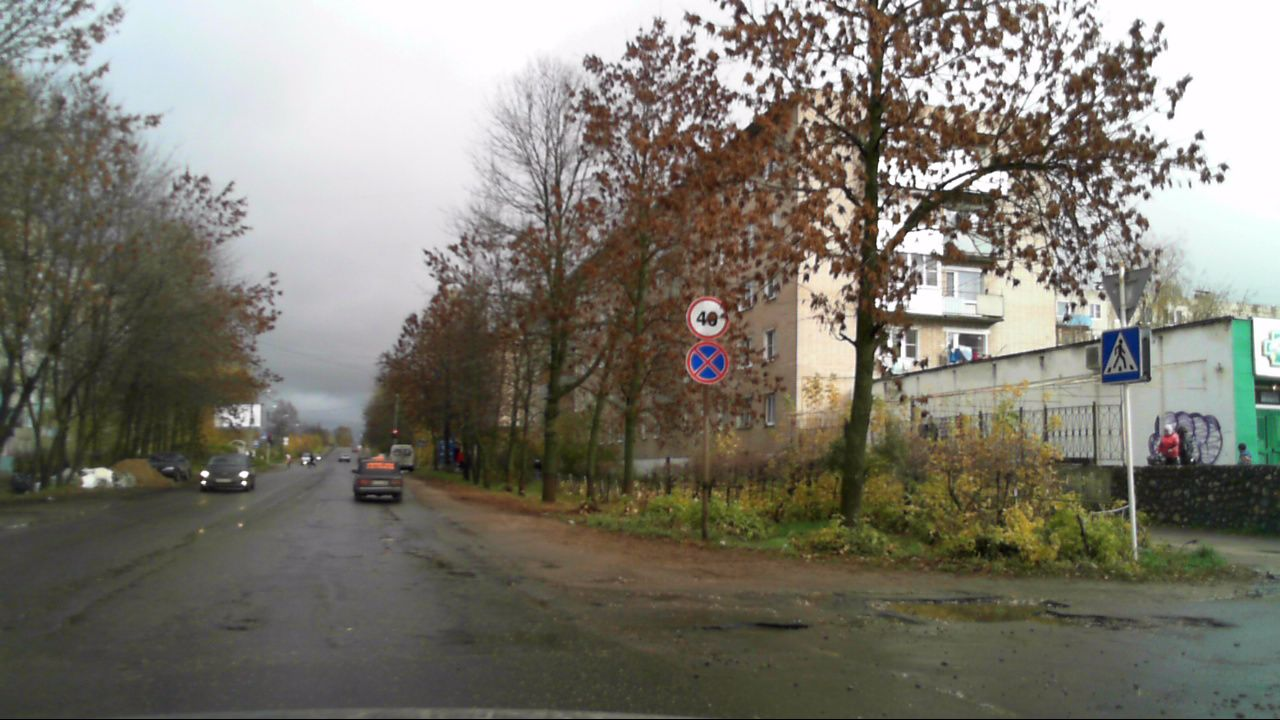No Parking: (686, 340, 729, 385)
speed_warning_40: (686, 297, 728, 341)
